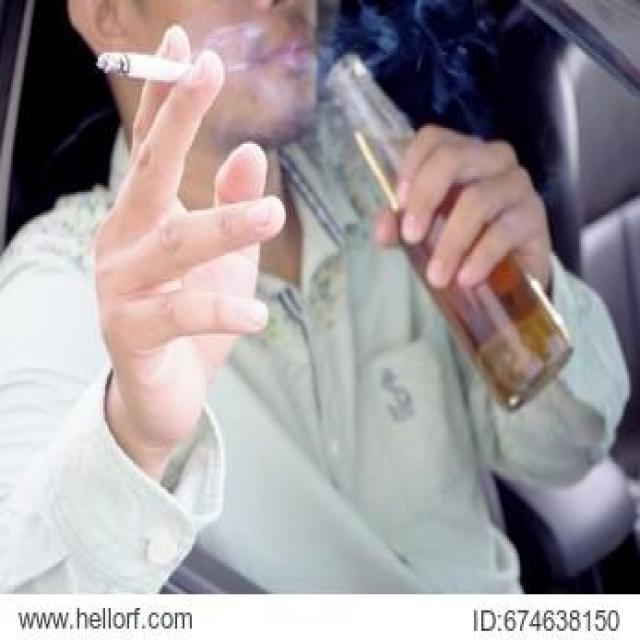Сигарета: (96, 50, 190, 80)
Тело: (3, 7, 626, 617)
